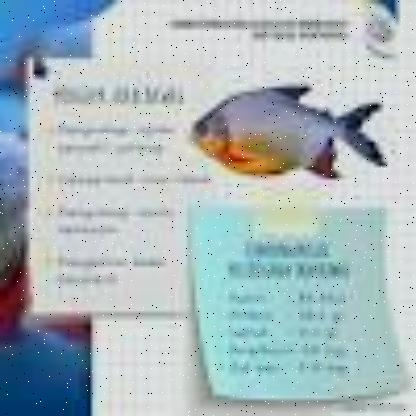ikan-pacu: (191, 82, 391, 180)
